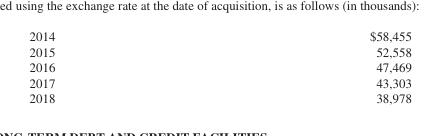table: (28, 28, 410, 105)
table column: (211, 28, 410, 105), (28, 28, 211, 105)
table row: (28, 43, 410, 59), (28, 74, 410, 90), (28, 28, 410, 43), (28, 59, 410, 74), (28, 90, 410, 105)
